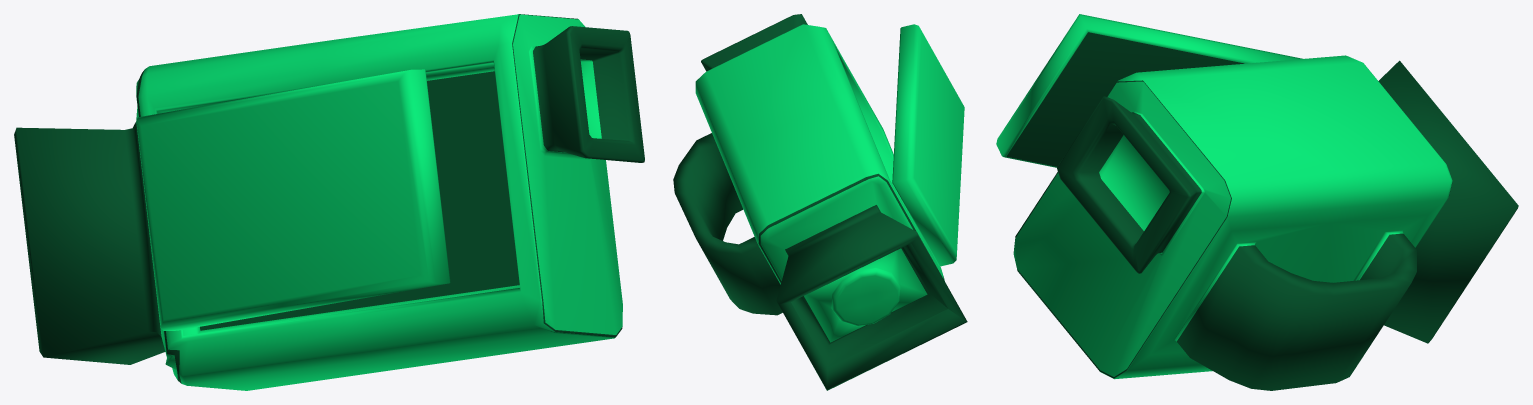
File: icon_reel.glb
3 views of the same model, side by side, from view 1: azimuth 30°, elevation 25°; view 2: azimuth 150°, elevation 25°; view 3: azimuth 270°, elevation 25° (orthographic). The views are drawn at different scales.
Visible parts, largest first — view 1: icon_reel1; view 2: icon_reel1; view 3: icon_reel1.
Part boxes in pixels (x1,y1,x2,y2): icon_reel1: (14,14,644,390); icon_reel1: (673,14,967,390); icon_reel1: (996,14,1518,390).
Size of the model in its own units: 0.2995 by 0.2415 by 0.3219.
